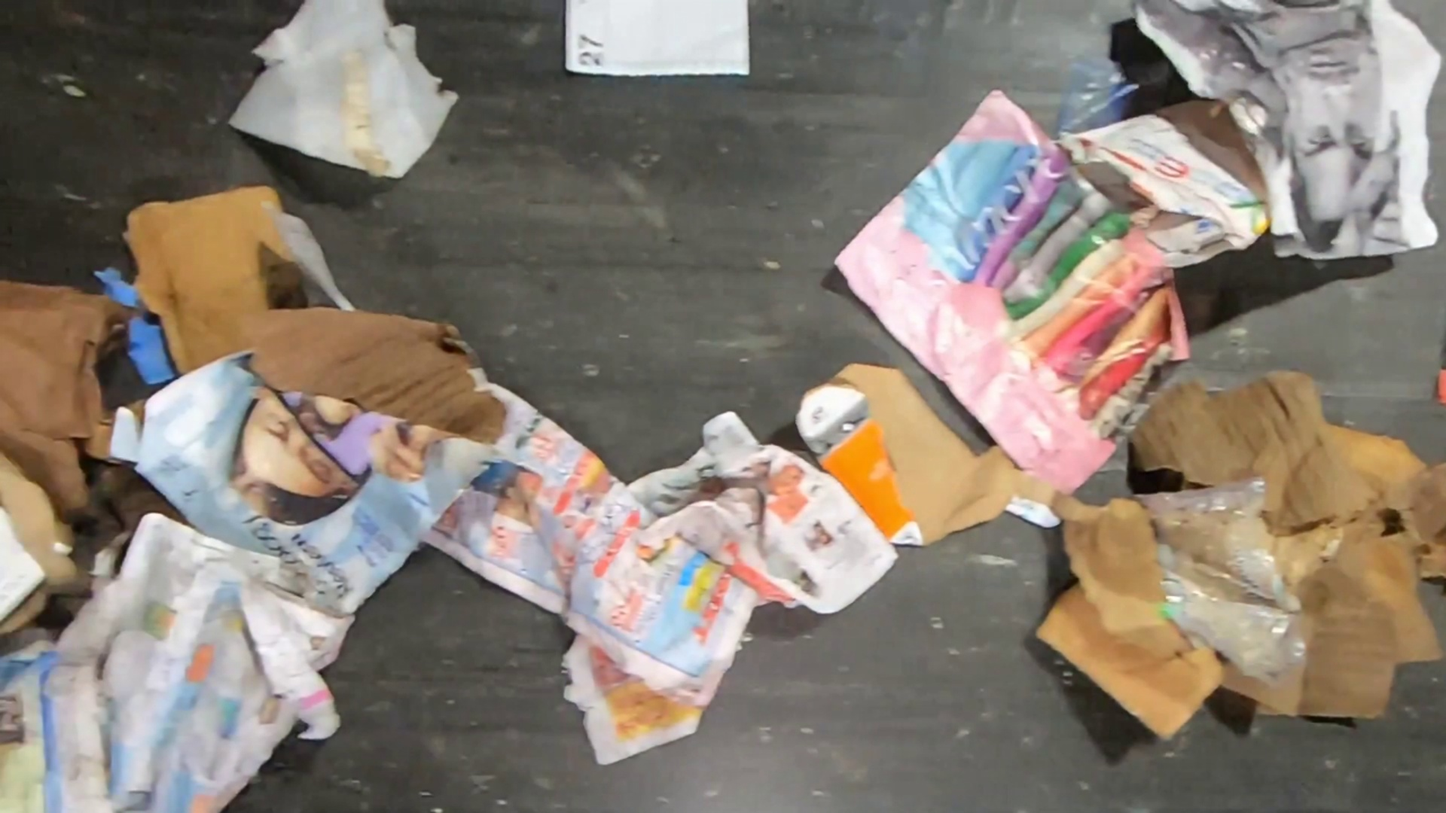cardboard: (1033, 368, 1446, 741), (795, 362, 1066, 549), (234, 309, 511, 448), (120, 186, 303, 378), (0, 281, 140, 519), (0, 451, 76, 635)
plastic: (1056, 52, 1140, 139)
